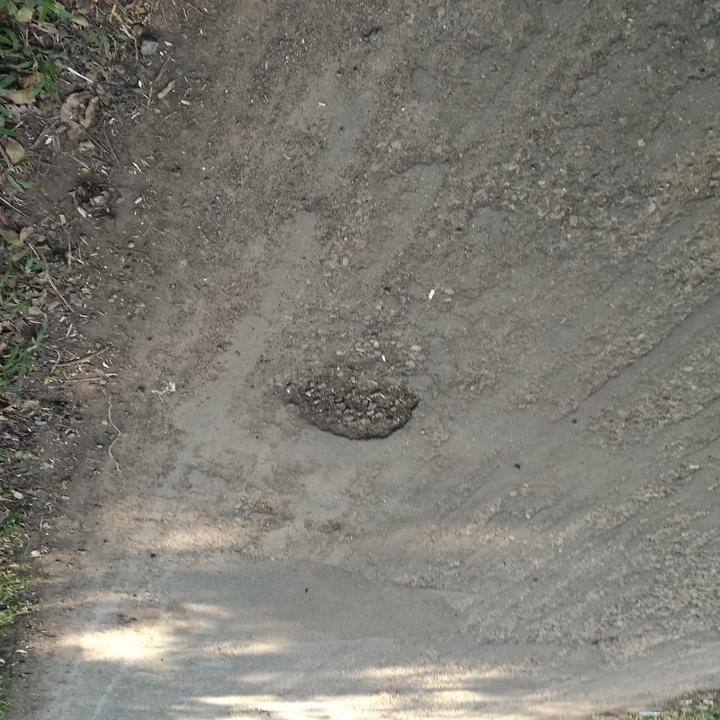pothole: (271, 366, 422, 446)
